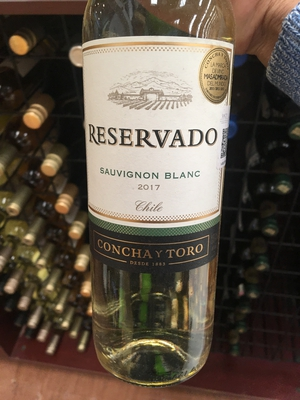reservado sauvignon blanc: (77, 7, 234, 381)
